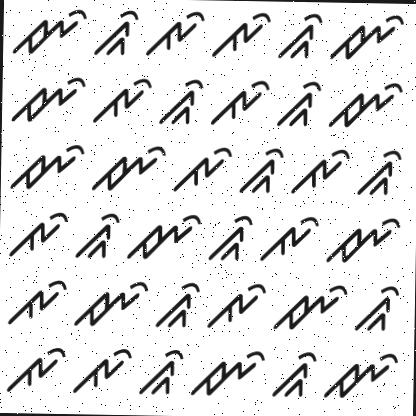ay: (206, 273, 268, 337), (5, 272, 70, 330), (72, 340, 134, 400), (91, 71, 155, 128), (212, 5, 274, 63), (144, 7, 209, 62), (8, 206, 71, 262), (7, 340, 71, 395), (290, 146, 352, 200), (260, 212, 322, 265), (210, 76, 272, 127), (170, 144, 233, 193)
nggay: (274, 74, 324, 136), (236, 144, 288, 202), (73, 209, 124, 266), (91, 3, 142, 60), (156, 76, 206, 134), (153, 278, 202, 337), (354, 146, 404, 202), (207, 211, 257, 266), (352, 282, 404, 334), (271, 350, 321, 404), (276, 8, 324, 64), (140, 348, 186, 400)
njay: (326, 7, 408, 68), (328, 74, 408, 136), (323, 344, 399, 406), (74, 274, 152, 334), (11, 70, 86, 132), (8, 2, 89, 57), (273, 278, 349, 336), (89, 139, 168, 194), (127, 210, 202, 266), (7, 140, 84, 194), (324, 214, 403, 266), (190, 349, 266, 401)
